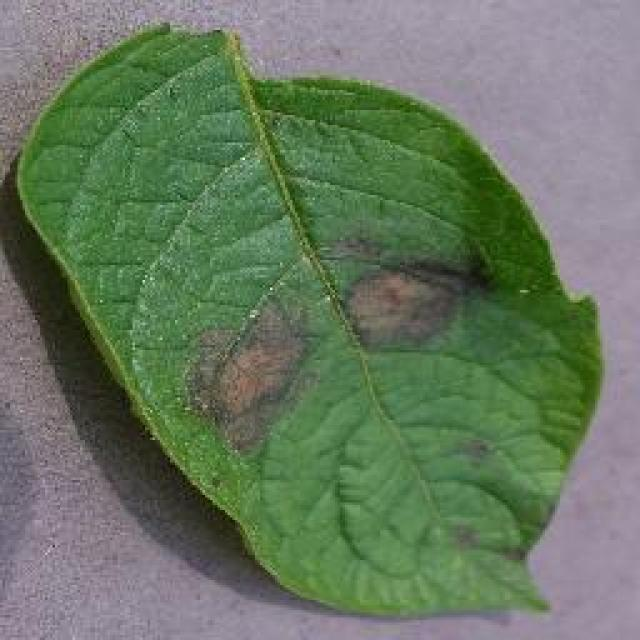Late_blight: (171, 292, 324, 458), (320, 233, 498, 374), (438, 413, 513, 481), (433, 515, 492, 564)
